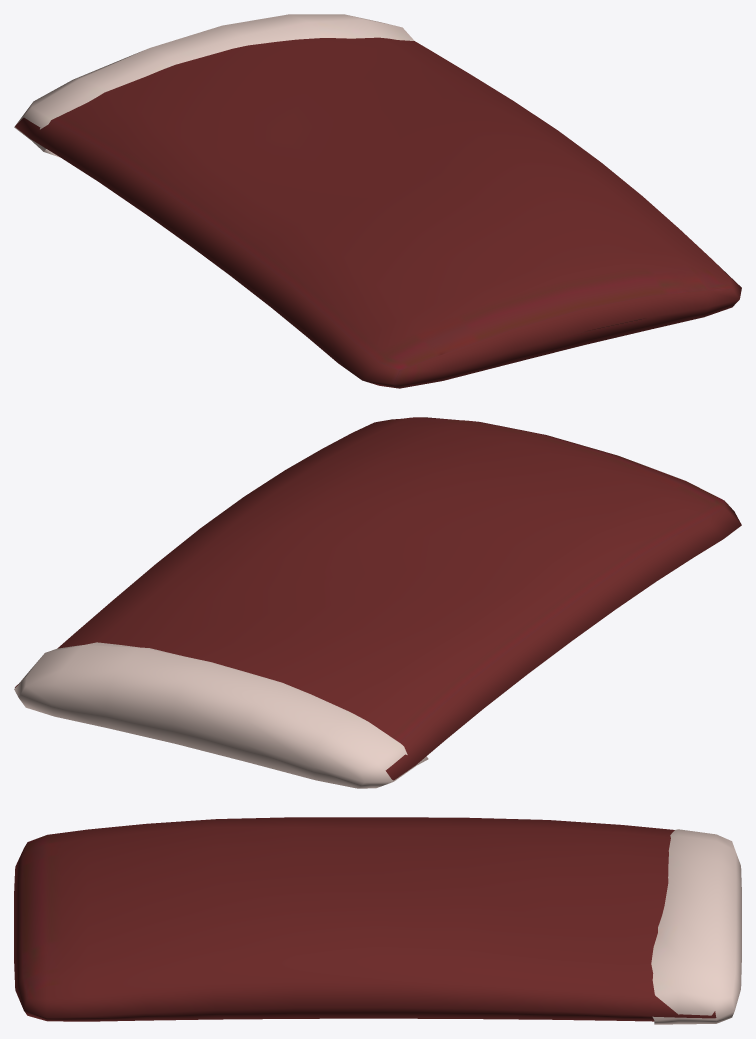
File: bedding.glb
3 renders of one model, top to bottom at view 1: azimuth 30°, elevation 25°; view 2: azimuth 150°, elevation 25°; view 3: azimuth 270°, elevation 25°, orthographic. The views are drawn at different scales.
Parts seen in each view (by area): view 1: bed_blanket_below.001; view 2: bed_blanket_below.001; view 3: bed_blanket_below.001.
Boxes of the visible parts, left/top/right/bottom form: bed_blanket_below.001: left=14, top=14, right=741, bottom=388; bed_blanket_below.001: left=14, top=417, right=741, bottom=788; bed_blanket_below.001: left=14, top=817, right=741, bottom=1024.
Bounding box in the file's own units: 0.9819 × 0.1953 × 1.67.
Materials: 1 (1 with a texture image).
